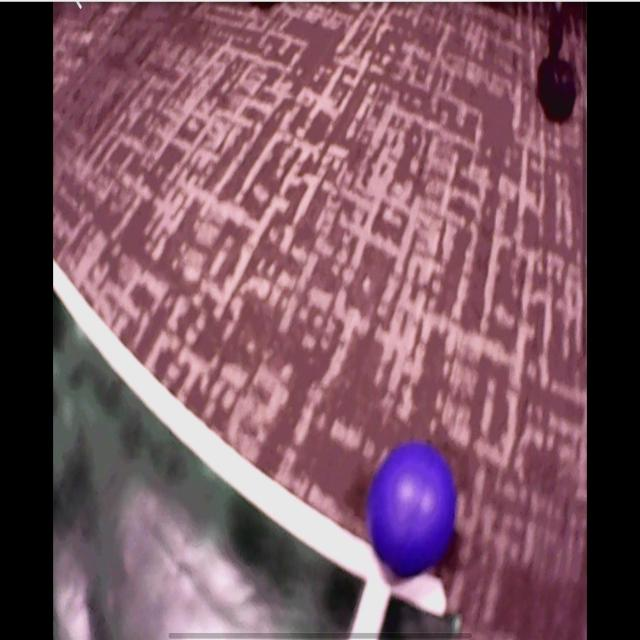ball: (369, 443, 458, 580)
